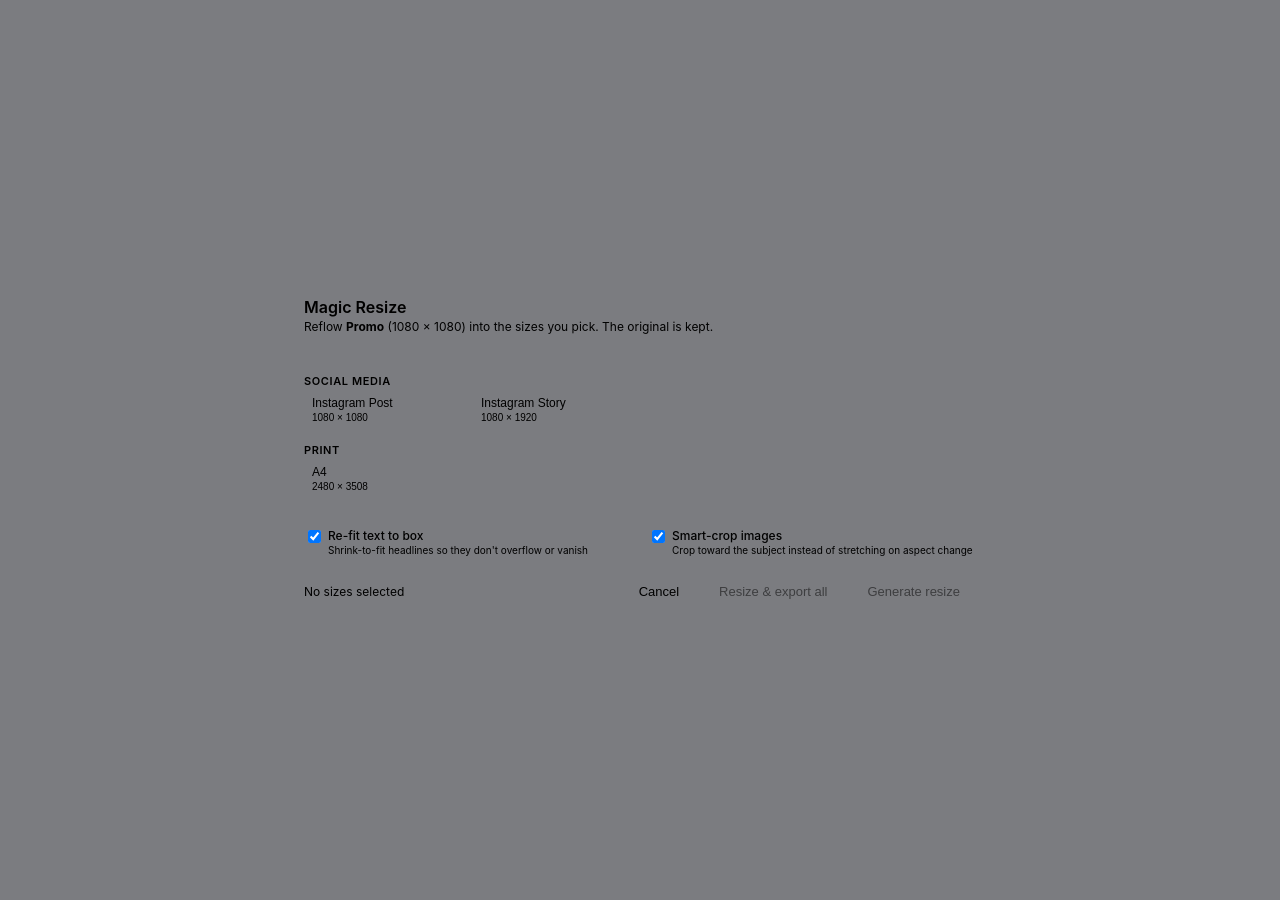
MagicResizeDialog › disables the generate action until a size is selected
Expected: the button "Generate resize" is disabled, [852,580,976,603]
What coordinates should you click on to do the following:
click the checkbox labelled "Instagram Post 1080 × 1080"
I would click on:
 (386, 410)
Its box is [304,392,469,427].
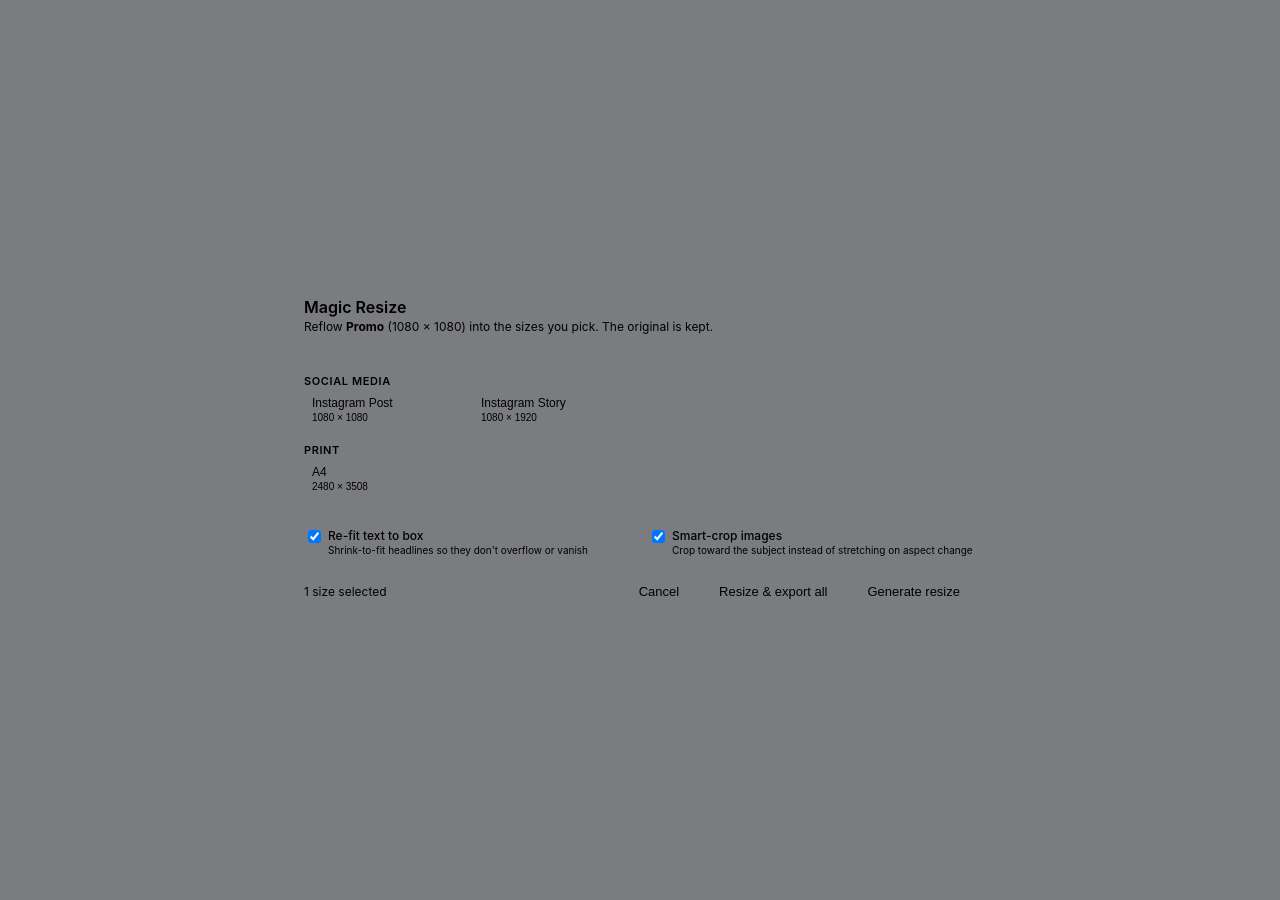
Result: the button "Generate resize" is enabled at [852,580,976,603]
